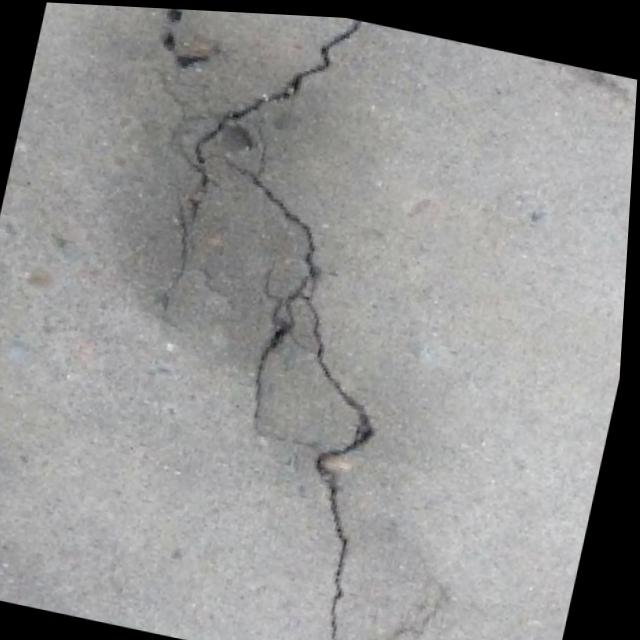Crack: (79, 4, 498, 640)
